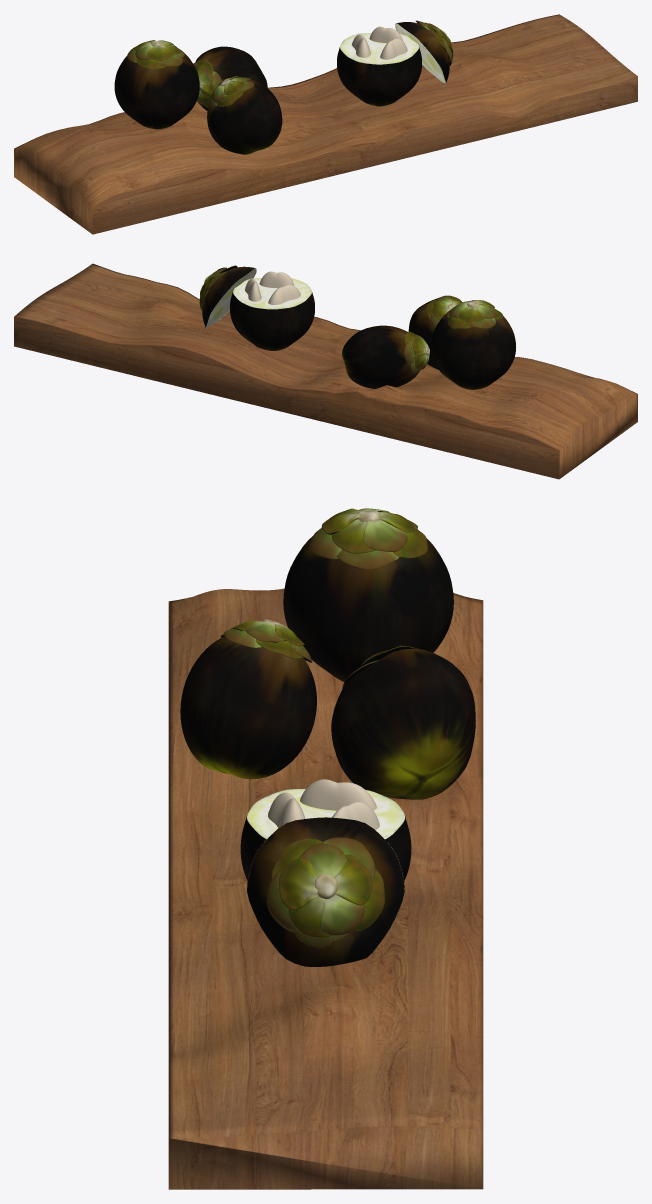
File: palmyra-palm.glb
The picture shows the model from 3 angles, top to bottom: view 1: azimuth 30°, elevation 25°; view 2: azimuth 150°, elevation 25°; view 3: azimuth 270°, elevation 25°; orthographic projection. The views are drawn at different scales.
Parts seen in each view (by area): view 1: Plane, Sphere, Sphere.004, Sphere.001, Sphere.002, Sphere.005, Sphere.006, Sphere.007, Circle.009; view 2: Plane, Sphere, Sphere.004, Sphere.002, Sphere.005, Sphere.001, Sphere.003, Sphere.006; view 3: Plane, Sphere.002, Sphere, Sphere.001, Sphere.005, Sphere.004, Sphere.003, Circle.048, Circle.045, Circle.046, Circle.006, Circle.047 (+1 smaller).
Boxes of the visible parts, left/top/right/bottom form: Plane: left=14, top=14, right=637, bottom=234; Sphere: left=114, top=41, right=199, bottom=129; Sphere.004: left=337, top=33, right=421, bottom=106; Sphere.001: left=207, top=79, right=282, bottom=154; Sphere.002: left=195, top=46, right=267, bottom=110; Sphere.005: left=395, top=22, right=449, bottom=83; Sphere.006: left=380, top=38, right=407, bottom=59; Sphere.007: left=369, top=26, right=402, bottom=43; Circle.009: left=147, top=43, right=173, bottom=60; Plane: left=14, top=263, right=637, bottom=479; Sphere: left=431, top=301, right=515, bottom=389; Sphere.004: left=230, top=278, right=314, bottom=350; Sphere.002: left=342, top=325, right=429, bottom=388; Sphere.005: left=202, top=266, right=256, bottom=328; Sphere.001: left=408, top=297, right=455, bottom=369; Sphere.003: left=268, top=284, right=300, bottom=304; Sphere.006: left=259, top=271, right=293, bottom=288; Plane: left=168, top=588, right=483, bottom=1189; Sphere.002: left=331, top=648, right=475, bottom=799; Sphere: left=283, top=510, right=453, bottom=681; Sphere.001: left=180, top=619, right=316, bottom=779; Sphere.005: left=247, top=817, right=404, bottom=966; Sphere.004: left=240, top=789, right=411, bottom=880; Sphere.003: left=300, top=779, right=376, bottom=810; Circle.048: left=279, top=857, right=318, bottom=909; Circle.045: left=320, top=894, right=364, bottom=935; Circle.046: left=335, top=854, right=372, bottom=905; Circle.006: left=363, top=519, right=407, bottom=551; Circle.047: left=299, top=843, right=347, bottom=877.
Bounding box in the file's own units: 1000 × 224 × 250.
6 materials, 5 textured.
